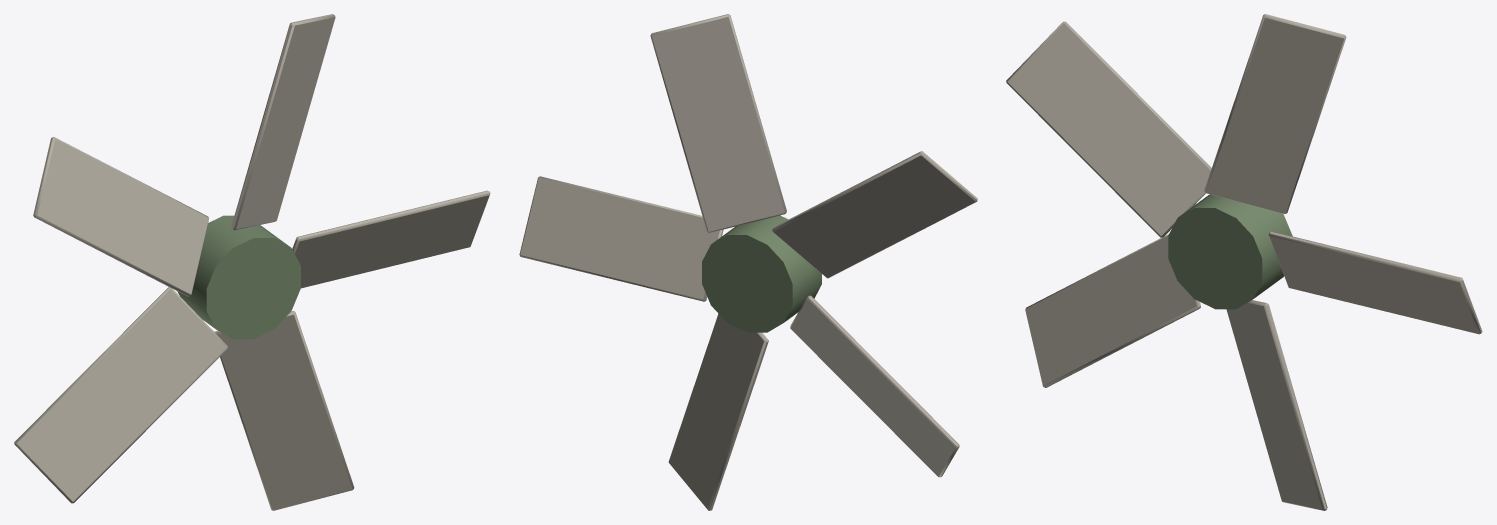
The model's file is fan.glb.
3 renders of one model, left to right at view 1: azimuth 30°, elevation 25°; view 2: azimuth 150°, elevation 25°; view 3: azimuth 330°, elevation 25°, orthographic. The views are drawn at different scales.
Visible parts, largest first — view 1: fan__blades; view 2: fan__blades; view 3: fan__blades.
Boxes of the visible parts, <box> form: fan__blades: <box>14,14,490,510</box>; fan__blades: <box>519,14,977,510</box>; fan__blades: <box>1006,14,1482,510</box>.
Size of the model in its own units: 1.04 by 1.09 by 0.12.
